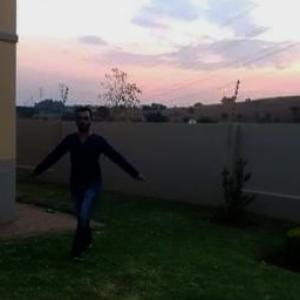land: (38, 101, 151, 246)
